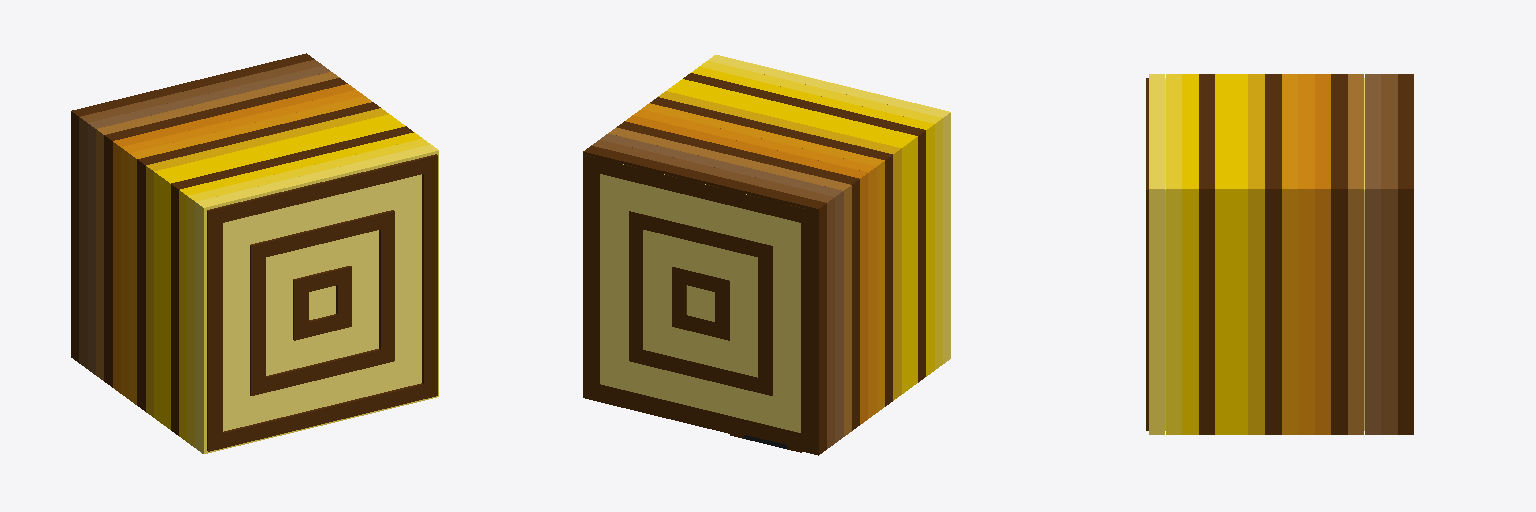
The model's file is tinker.obj.
3 renders of one model, left to right at view 1: azimuth 30°, elevation 25°; view 2: azimuth 150°, elevation 25°; view 3: azimuth 270°, elevation 25°, orthographic.
Visible parts, largest first — view 1: obj_0; view 2: obj_0; view 3: obj_0.
Boxes of the visible parts, x1,y1,x2,y2 form: obj_0: [71, 53, 438, 453]; obj_0: [583, 55, 950, 455]; obj_0: [1146, 74, 1413, 434].
Size of the model in its own units: 82 by 83 by 81.05.